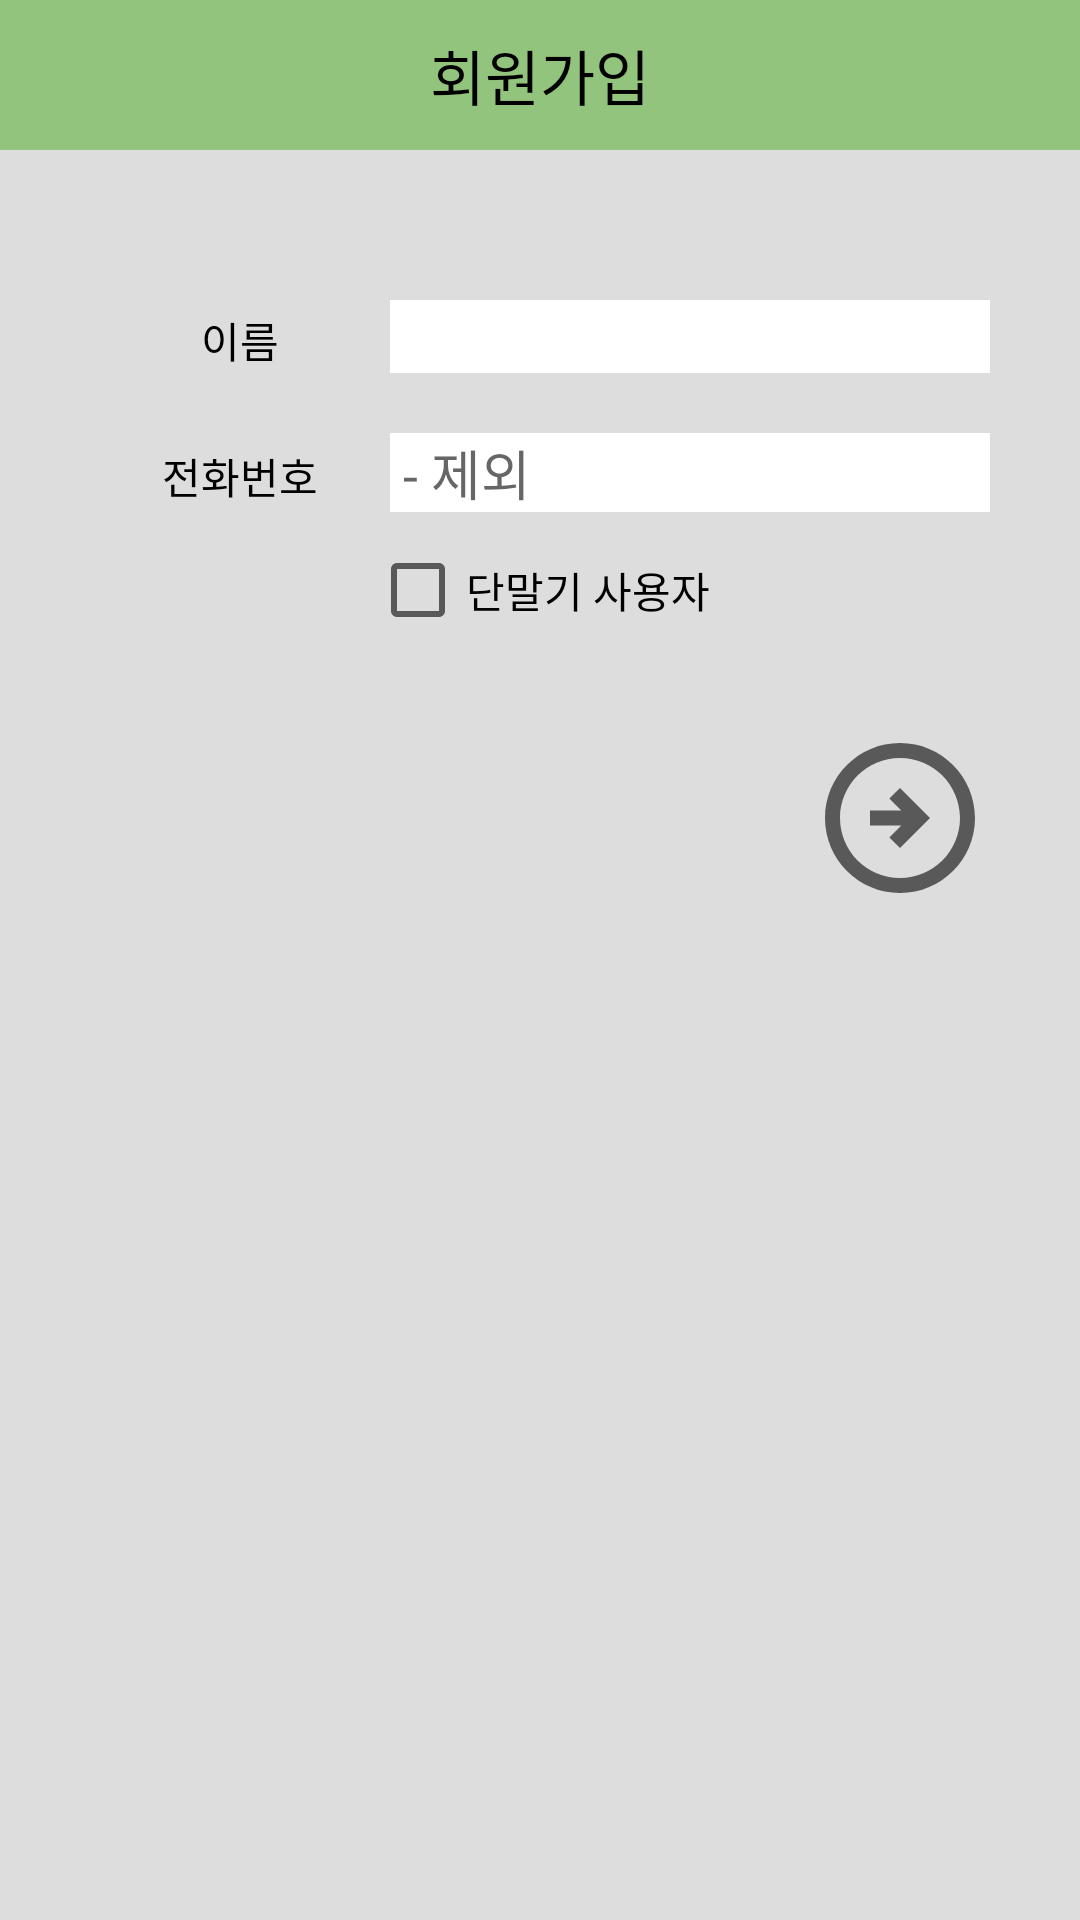

Icons on this 1080px x 1920px Android screen, each with the point to tap as [x,y]:
arrow circle next: [900,818]
